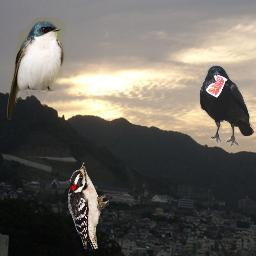Crow: (199, 65, 254, 147)
Swallow: (7, 17, 66, 120)
Woodpecker: (68, 162, 109, 249)
